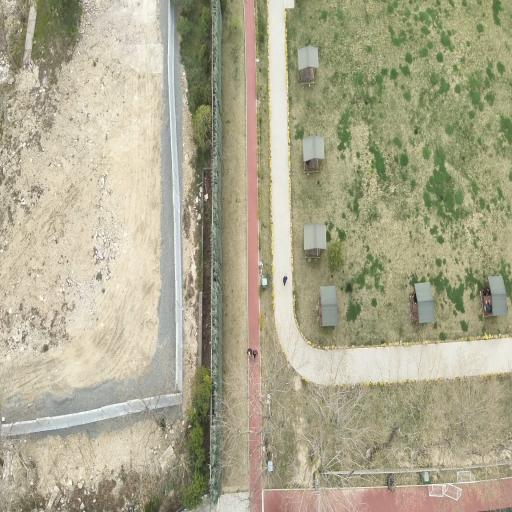person: (484, 302, 491, 313), (483, 287, 490, 296), (413, 293, 417, 303), (253, 350, 257, 360), (247, 348, 252, 356), (283, 275, 287, 285)
